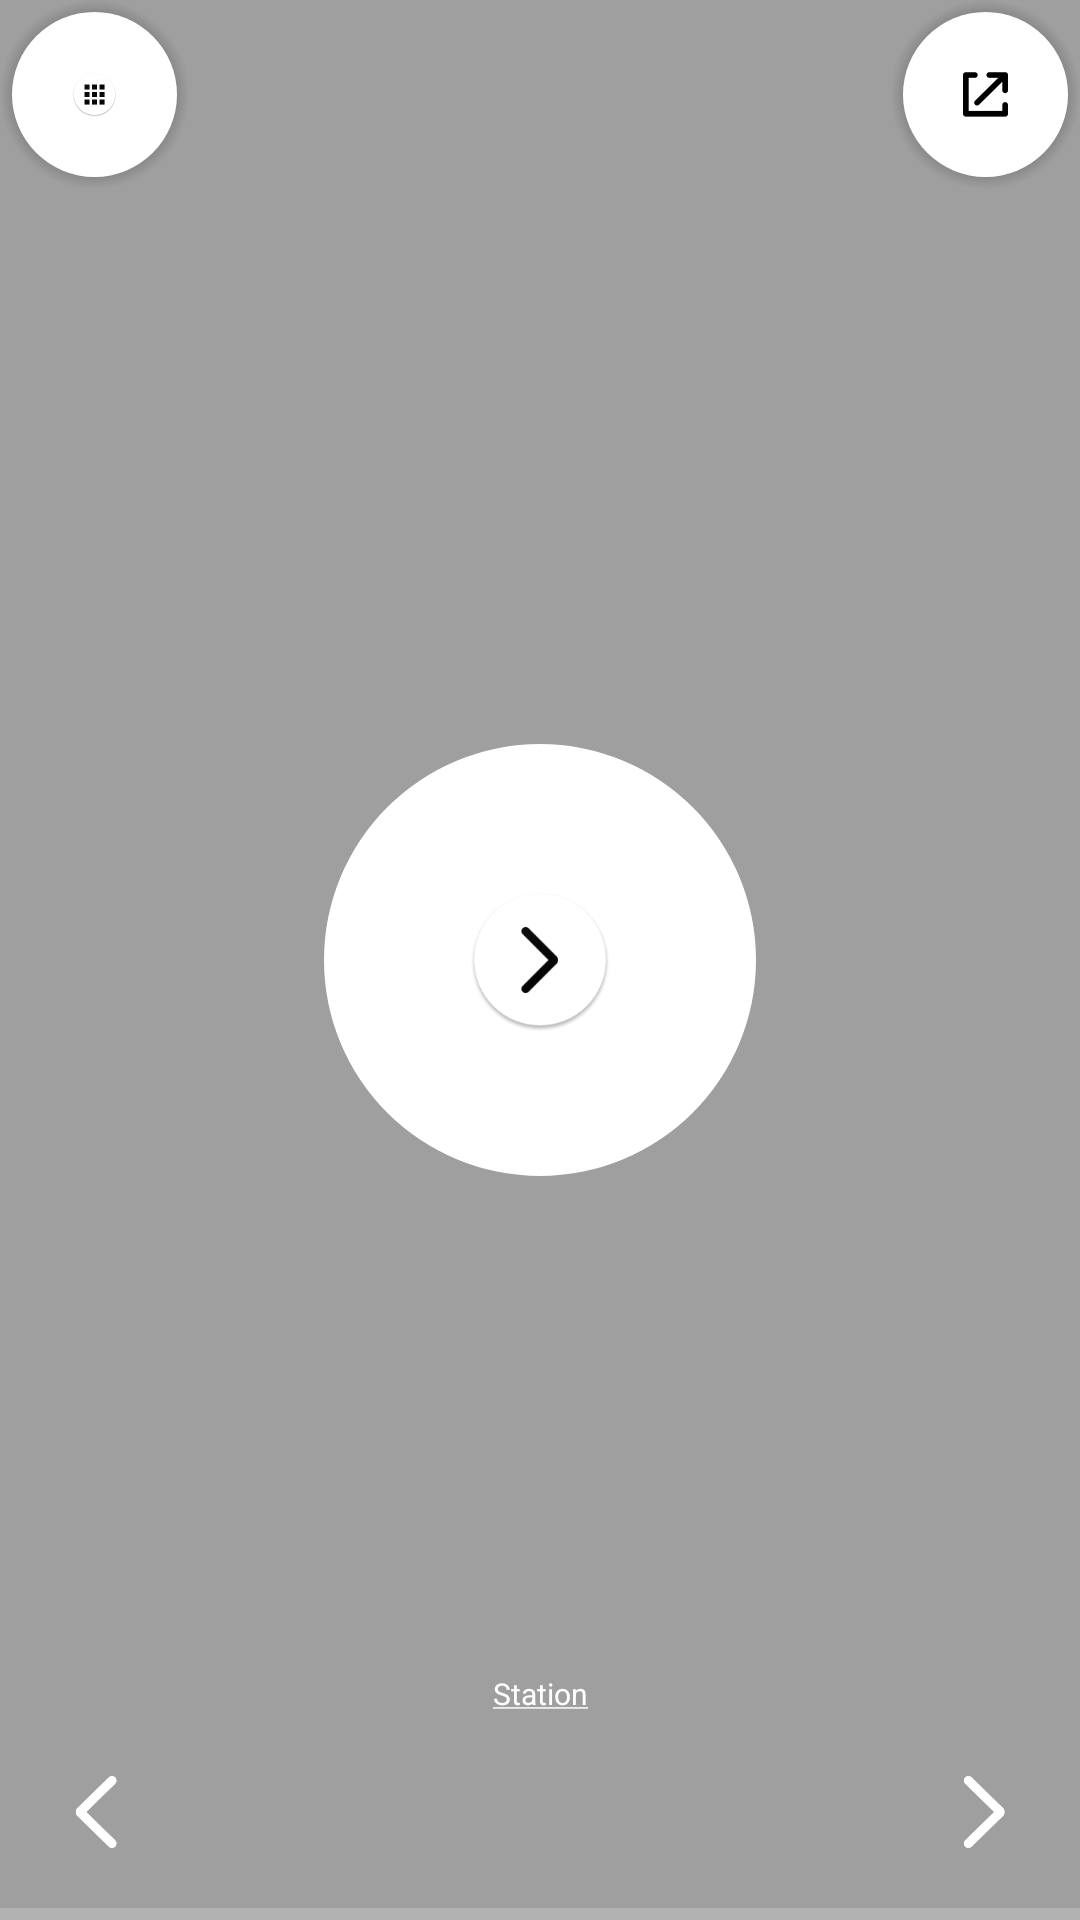

Where icons sit on this 1080x1920 app screen, as (x1, y1, x2, y2):
arrow left: (76, 1776, 117, 1848)
arrow right: (964, 1776, 1005, 1848)
